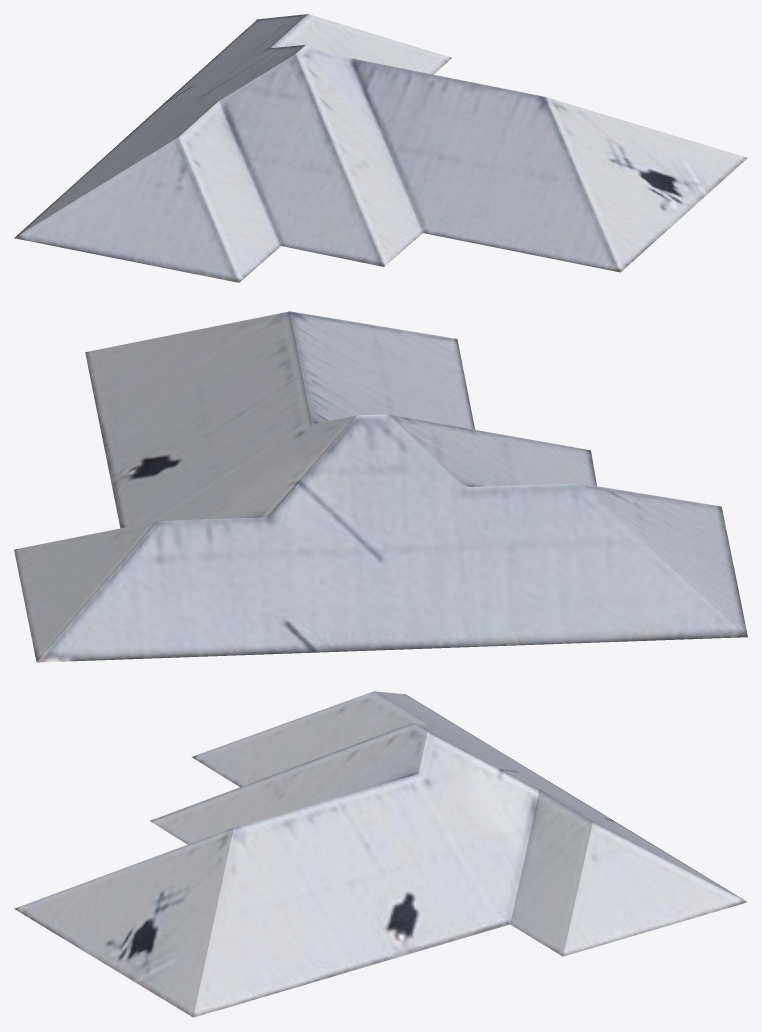
File: BK39_500_014033_0053_roof.obj
3 renders of one model, top to bottom at view 1: azimuth 30°, elevation 25°; view 2: azimuth 150°, elevation 25°; view 3: azimuth 270°, elevation 25°, orthographic. The views are drawn at different scales.
Visible parts, largest first — view 1: BK39_500_014033_0053_roof; view 2: BK39_500_014033_0053_roof; view 3: BK39_500_014033_0053_roof.
Part boxes in pixels (x1,y1,x2,y2): BK39_500_014033_0053_roof: [14, 14, 747, 282]; BK39_500_014033_0053_roof: [14, 311, 747, 662]; BK39_500_014033_0053_roof: [14, 691, 747, 1017].
Bounding box in the file's own units: 415 × 70 × 397.
1 material, 1 textured.
